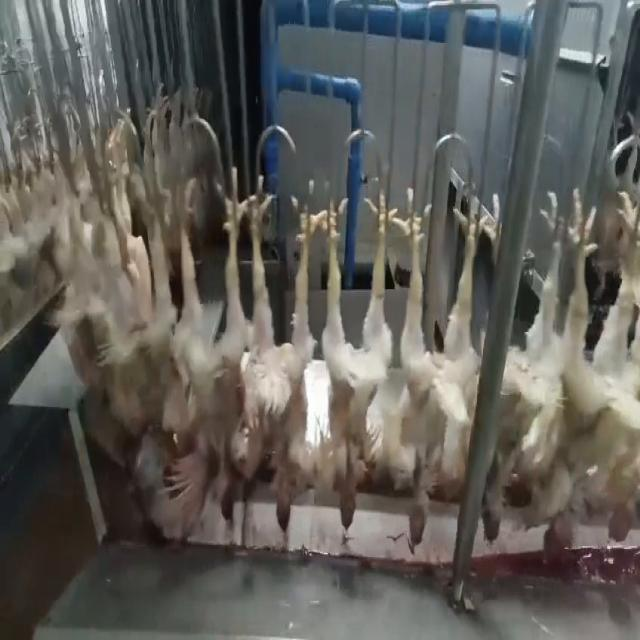chicken: (384, 186, 488, 558), (508, 187, 596, 566), (243, 176, 321, 542), (316, 183, 396, 531), (174, 160, 246, 531), (586, 183, 640, 551), (120, 164, 171, 522)
